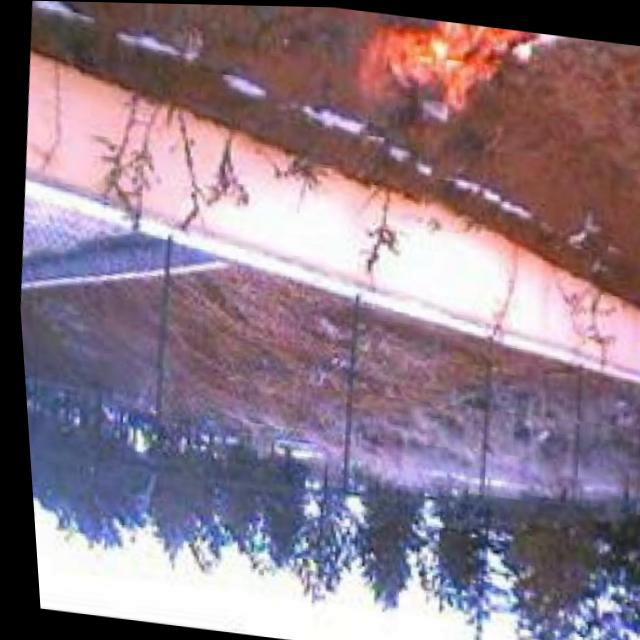fire: (342, 7, 560, 137)
